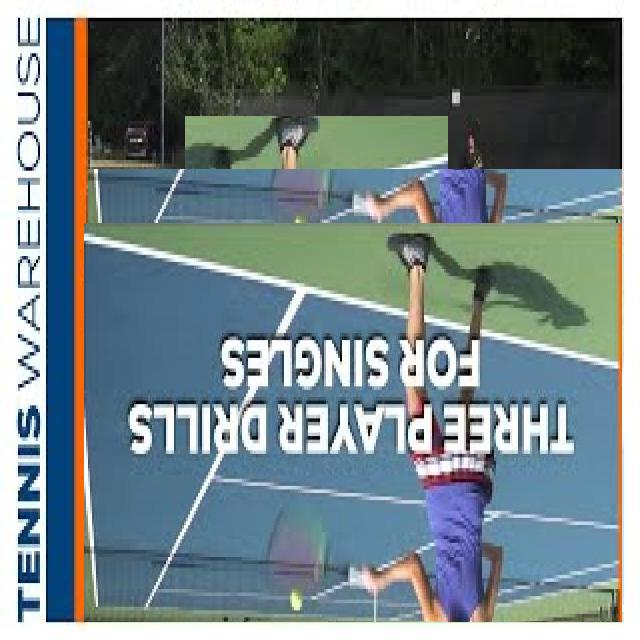court: (84, 223, 622, 622)
net: (88, 169, 622, 303)
player: (185, 116, 448, 610)
